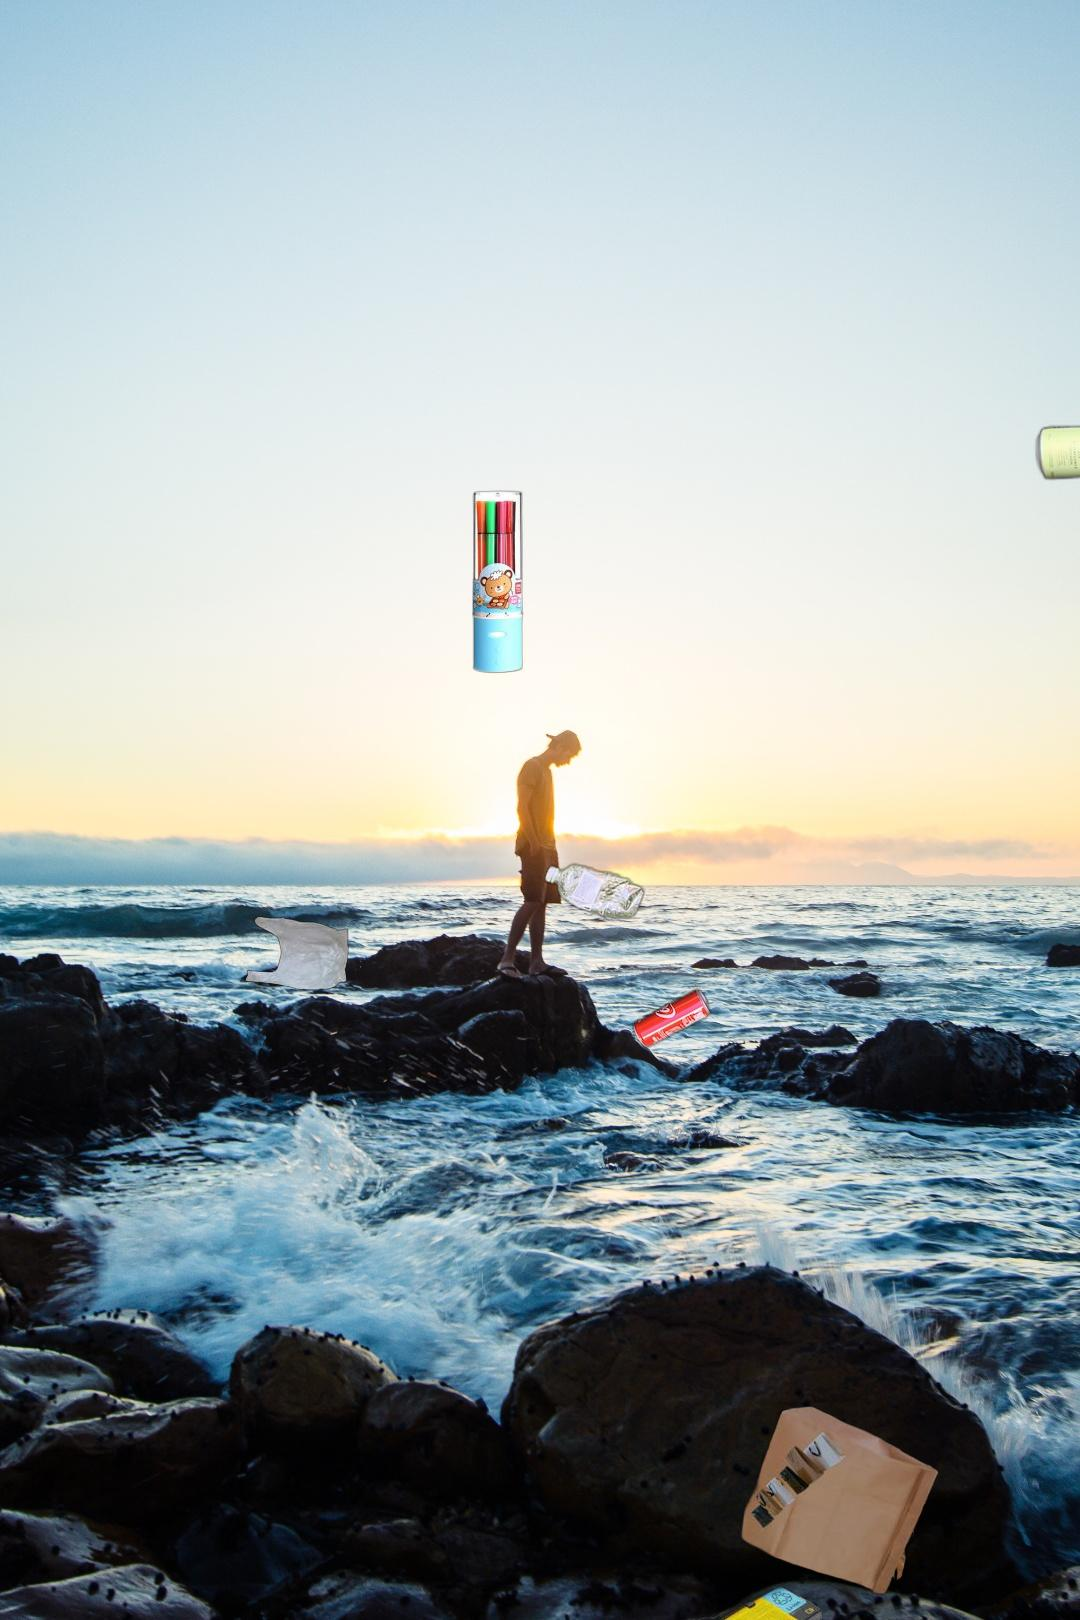battery: (559, 1548, 864, 1620)
metal-cans: (629, 984, 714, 1052), (1032, 418, 1080, 485)
paper-bag: (738, 1403, 940, 1596)
penholder: (470, 488, 526, 676)
plastic-bag: (242, 914, 351, 993)
plastic-bottles: (183, 858, 648, 1433)
